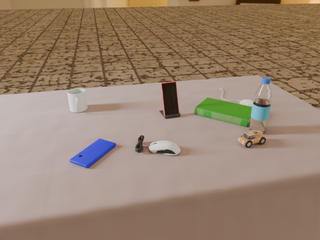book: (195, 98, 252, 127)
bottle: (249, 77, 272, 134)
cup: (67, 88, 88, 112)
mouse: (149, 141, 180, 155), (240, 99, 253, 107)
phone: (70, 139, 116, 168), (161, 82, 179, 116)
toy_car: (238, 131, 266, 148)
